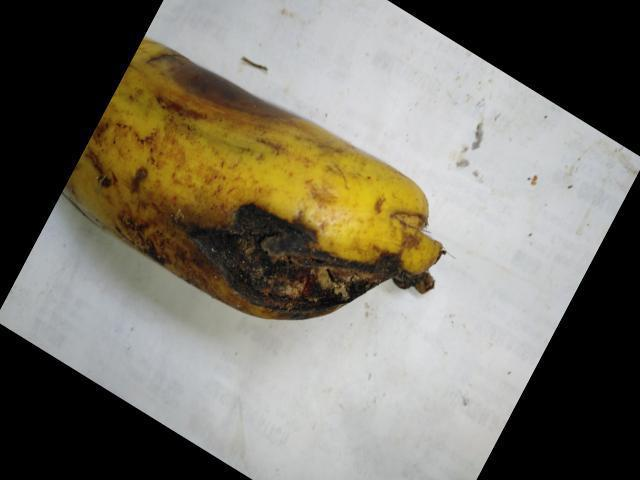ripe: (62, 36, 458, 330)
rotten: (160, 187, 452, 340), (147, 29, 290, 132)
